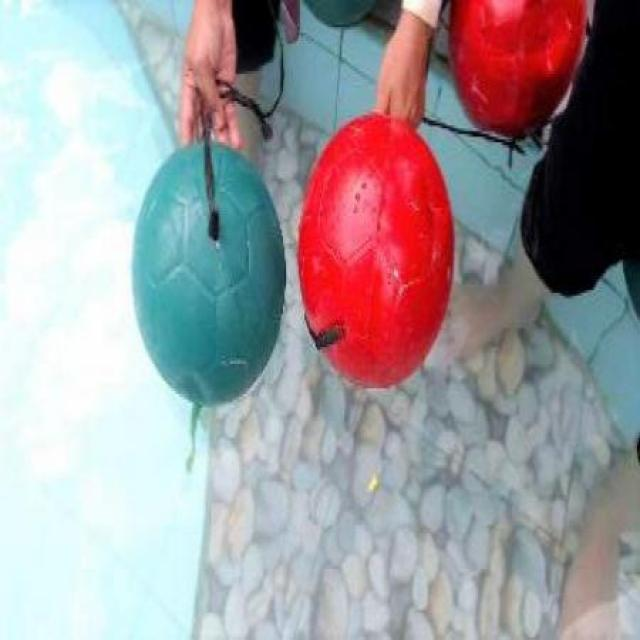buoy: (296, 111, 455, 387), (129, 137, 286, 406), (449, 0, 588, 137)
